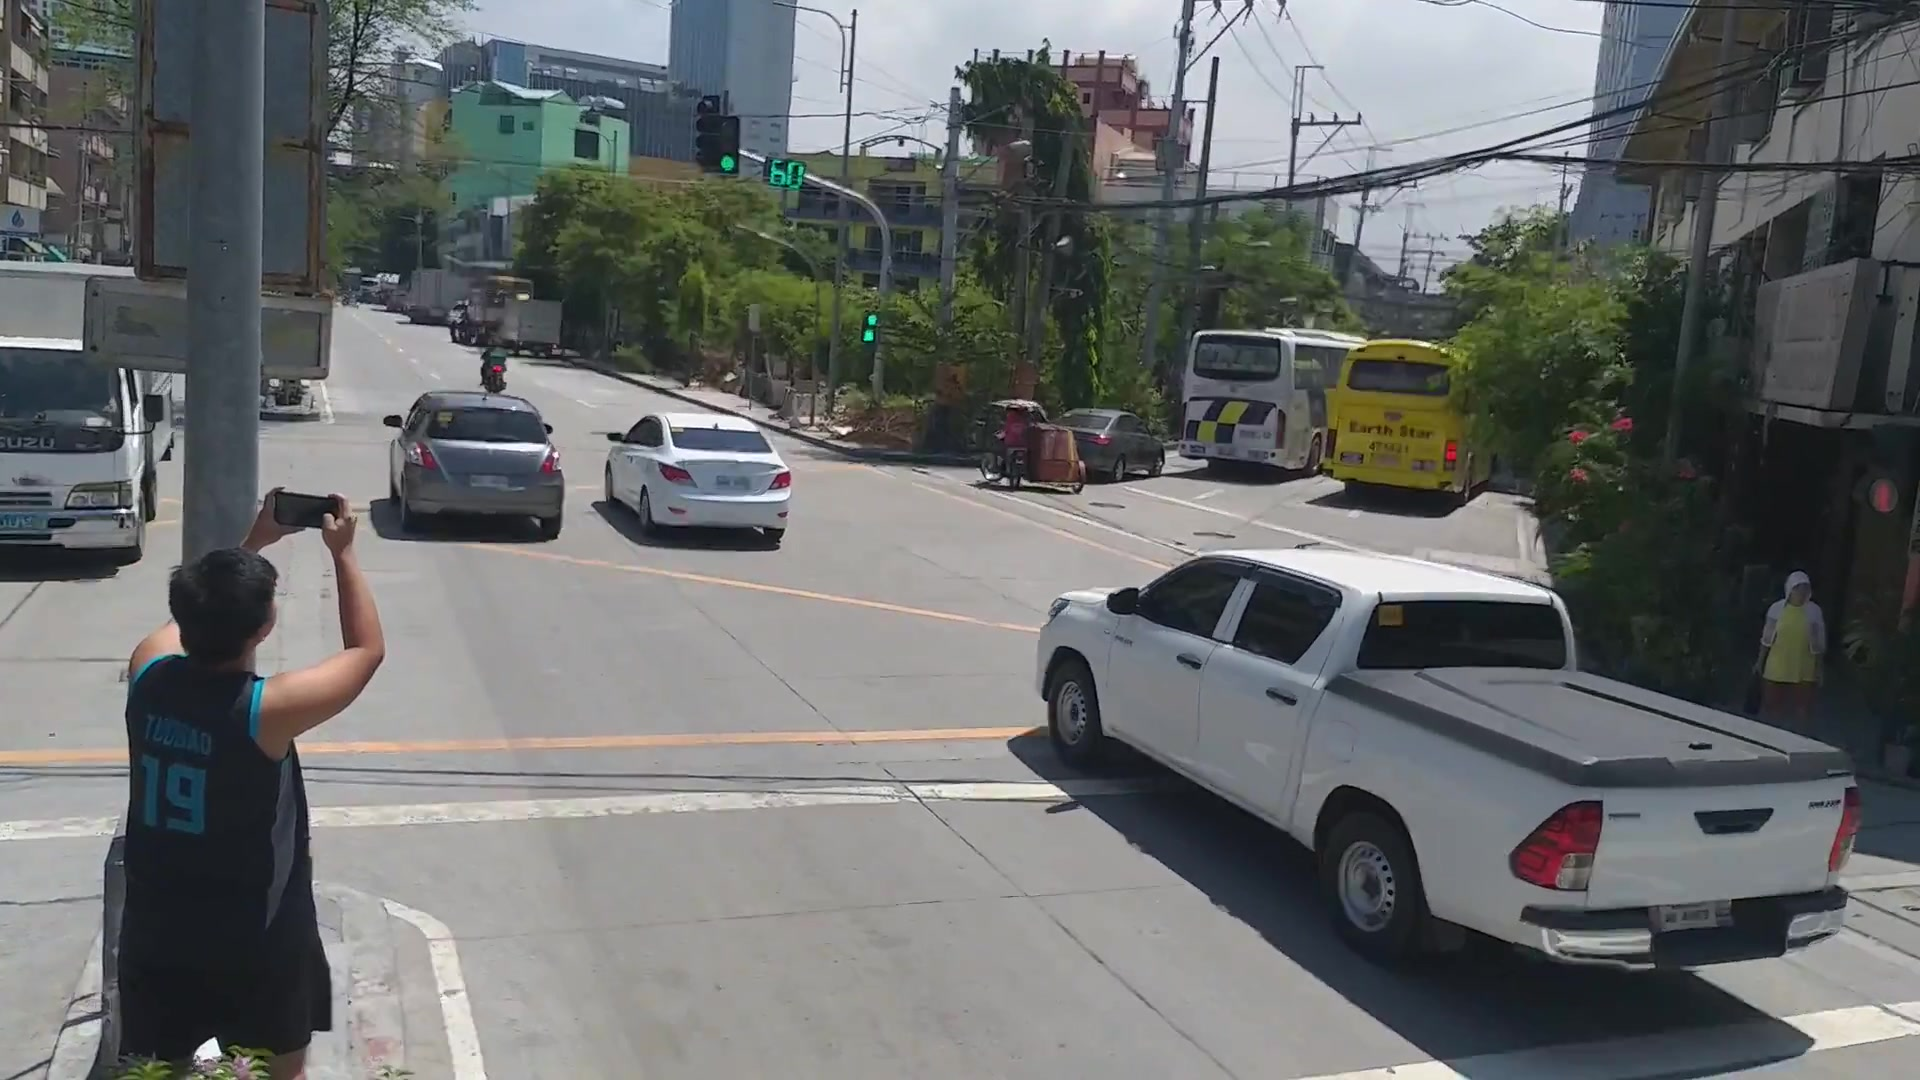car: (1027, 513, 1867, 983), (596, 408, 798, 553), (387, 389, 567, 538)
plate number: (1653, 903, 1729, 936), (711, 469, 757, 496), (469, 471, 514, 494)
